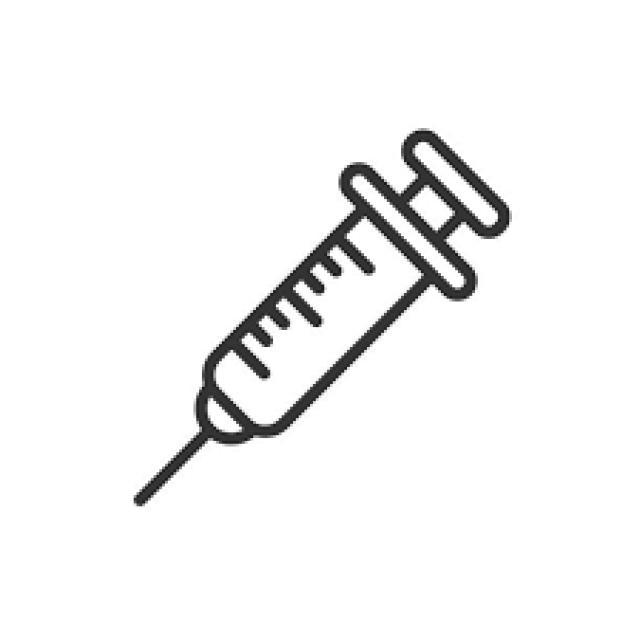syringe: (131, 95, 558, 588)
